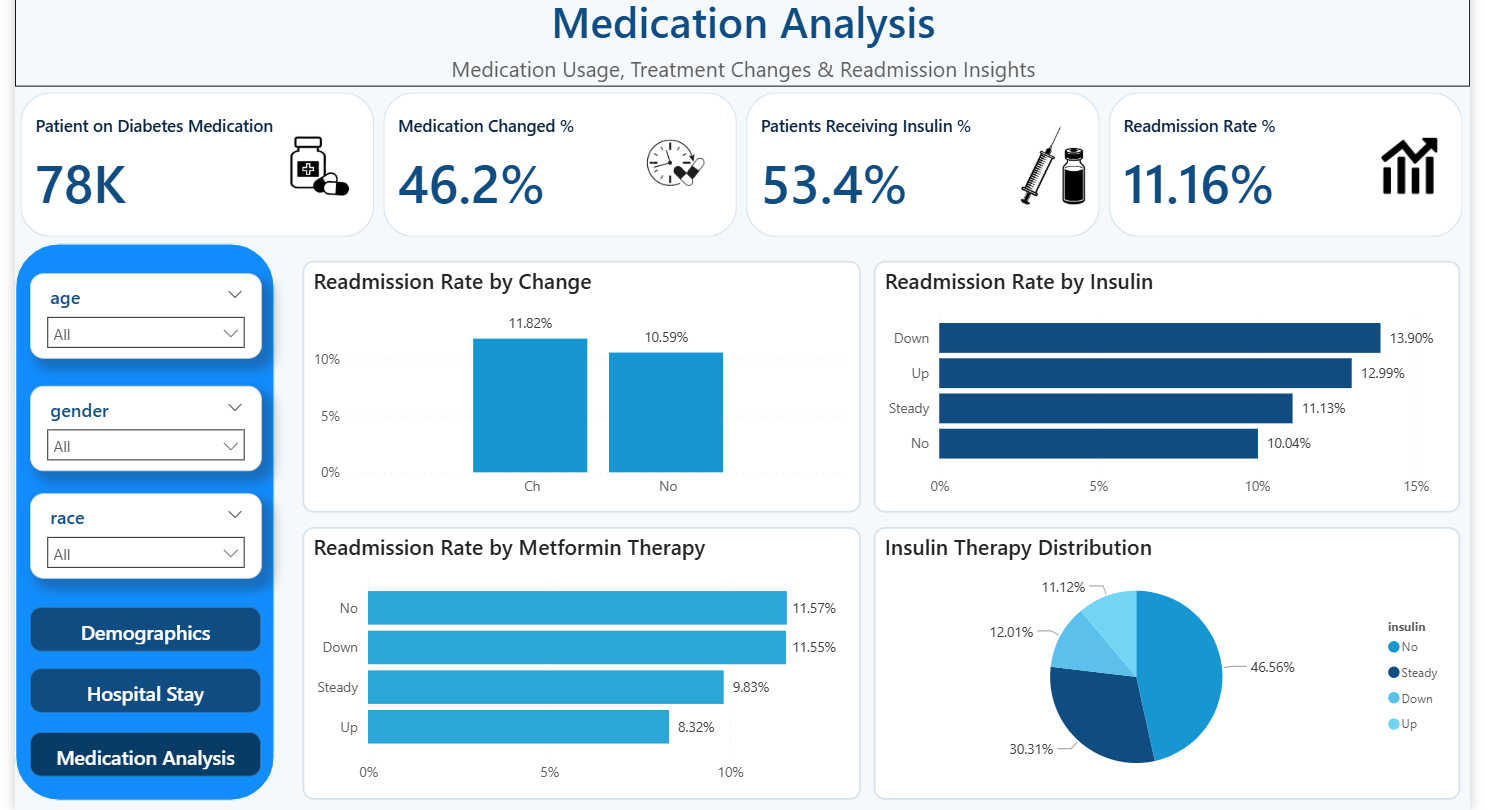

This screenshot's page, from the dashboard's own definition file:
{"tool":"powerbi","page":{"name":"Medication Analysis","canvas":[1280,720],"ordinal":2},"visuals":[{"type":"textbox","title":"Medication Analysis","box":[0,0,1279.9,83.6],"z":0},{"type":"cardVisual","fields":{"Data":["diabetes_readmission.Patient on Diabetes Medication","Admission source ID.Medication Changed %","diabetes_readmission.Patients Receiving Insulin %","diabetes_readmission.Readmission Rate %"]},"box":[0,83.6,1279.9,137.4],"z":1000},{"type":"shape","box":[0,220.7,228.4,490.4],"z":2000},{"type":"slicer","fields":{"Values":["diabetes_readmission.age"]},"box":[12.9,247.8,203.9,74.9],"z":3000},{"type":"slicer","fields":{"Values":["diabetes_readmission.gender"]},"box":[12.9,345.9,203.9,74.9],"z":4000},{"type":"slicer","fields":{"Values":["diabetes_readmission.race"]},"box":[12.9,441.4,203.9,74.9],"z":5000},{"type":"actionButton","box":[13.2,541,203.4,39.6],"z":6000},{"type":"actionButton","box":[13.2,650.9,203.4,39.6],"z":7000},{"type":"actionButton","box":[13.2,594.9,203.4,39.6],"z":8000},{"type":"pieChart","title":"Insulin Therapy Distribution","fields":{"Y":["diabetes_readmission.Total Patients"],"Category":["diabetes_readmission.insulin"]},"box":[755.4,470.9,515.7,239.7],"z":10000},{"type":"clusteredBarChart","title":"Readmission Rate by Metformin Therapy","fields":{"Category":["diabetes_readmission.metformin"],"Y":["diabetes_readmission.Readmission Rate %"]},"box":[253,470.9,491.5,239.7],"z":12000},{"type":"barChart","title":"Readmission Rate by Insulin","fields":{"Category":["diabetes_readmission.insulin"],"Y":["diabetes_readmission.Readmission Rate %"]},"box":[755.4,236,515.7,221.5],"z":12001},{"type":"clusteredColumnChart","title":"Readmission Rate by Change","fields":{"Y":["diabetes_readmission.Readmission Rate %"],"Category":["diabetes_readmission.change"]},"box":[253,236,491.5,221.5],"z":12002}]}

Visuals, with their boxes on the page's 1280x720 design canvas (x1, y1, x2, y2). These are canvas units, not pixel positions in the 1488x810 screenshot, which may show the page scaled, cropped or inside an application window:
"Medication Analysis" textbox: select_region(0, 0, 1280, 84)
cardVisual - diabetes_readmission.Patient on Diabetes Medication x Admission source ID.Medication Changed %: select_region(0, 84, 1280, 221)
shape: select_region(0, 221, 228, 711)
slicer - diabetes_readmission.age: select_region(13, 248, 217, 323)
slicer - diabetes_readmission.gender: select_region(13, 346, 217, 421)
slicer - diabetes_readmission.race: select_region(13, 441, 217, 516)
actionButton: select_region(13, 541, 217, 581)
actionButton: select_region(13, 651, 217, 690)
actionButton: select_region(13, 595, 217, 634)
"Insulin Therapy Distribution" pieChart: select_region(755, 471, 1271, 711)
"Readmission Rate by Metformin Therapy" clusteredBarChart: select_region(253, 471, 744, 711)
"Readmission Rate by Insulin" barChart: select_region(755, 236, 1271, 458)
"Readmission Rate by Change" clusteredColumnChart: select_region(253, 236, 744, 458)
